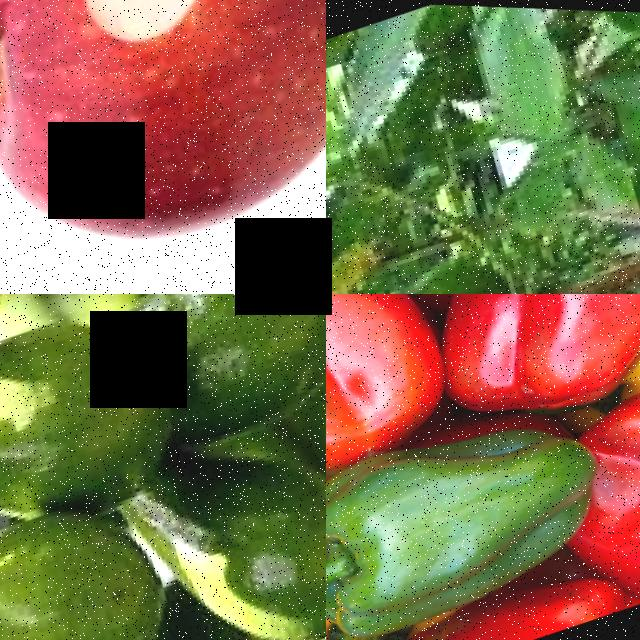apple: (0, 0, 326, 294)
avocado: (0, 294, 219, 584), (91, 388, 326, 640), (66, 294, 326, 483), (0, 470, 211, 640)
bell pepper: (326, 400, 607, 640), (326, 294, 457, 520), (435, 294, 640, 431), (599, 377, 640, 598)
